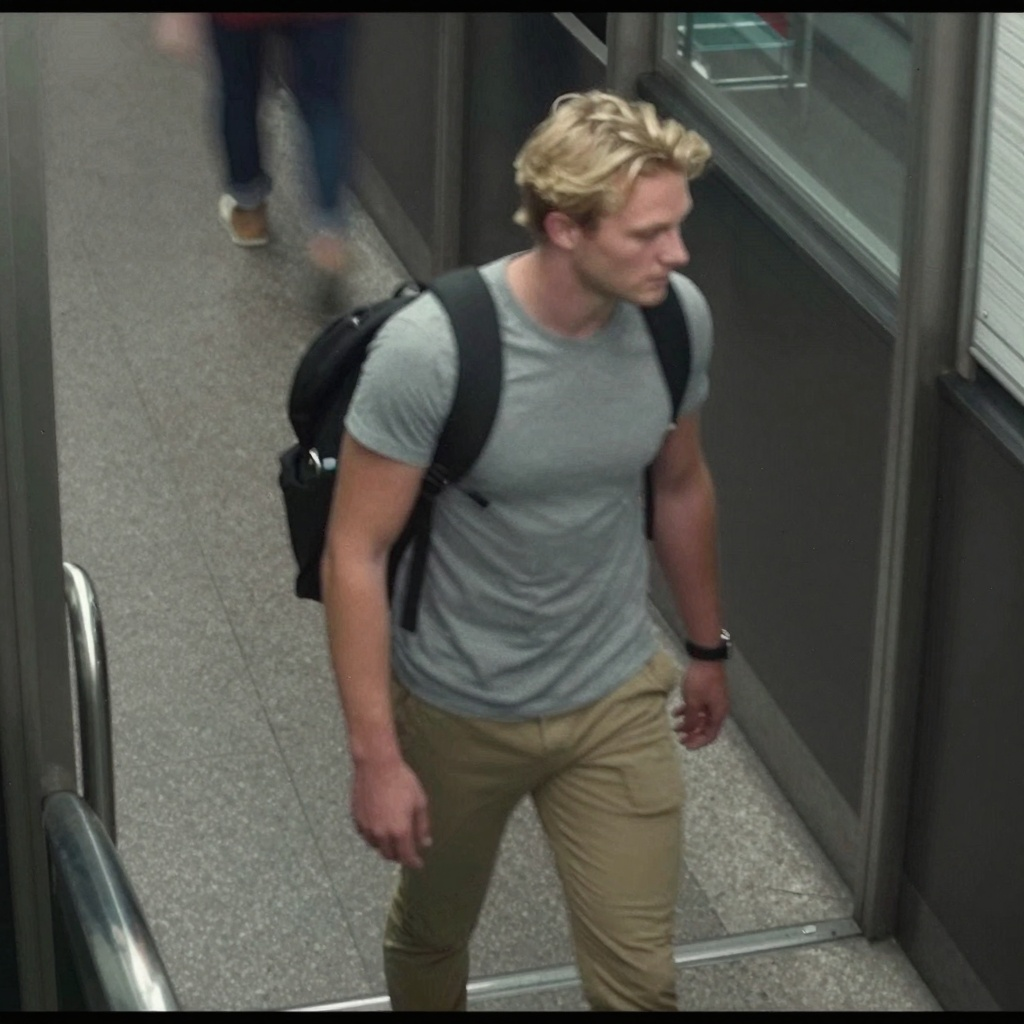Normal activity: (295, 83, 733, 1001), (160, 14, 360, 277)
